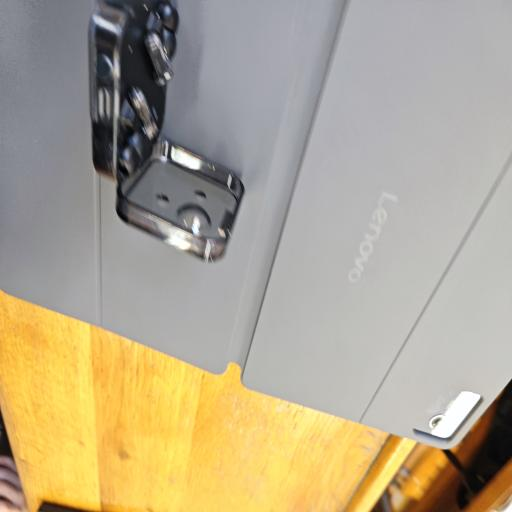Headphones: (85, 0, 248, 269)
